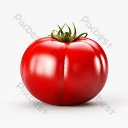tomato: (20, 34, 108, 106)
